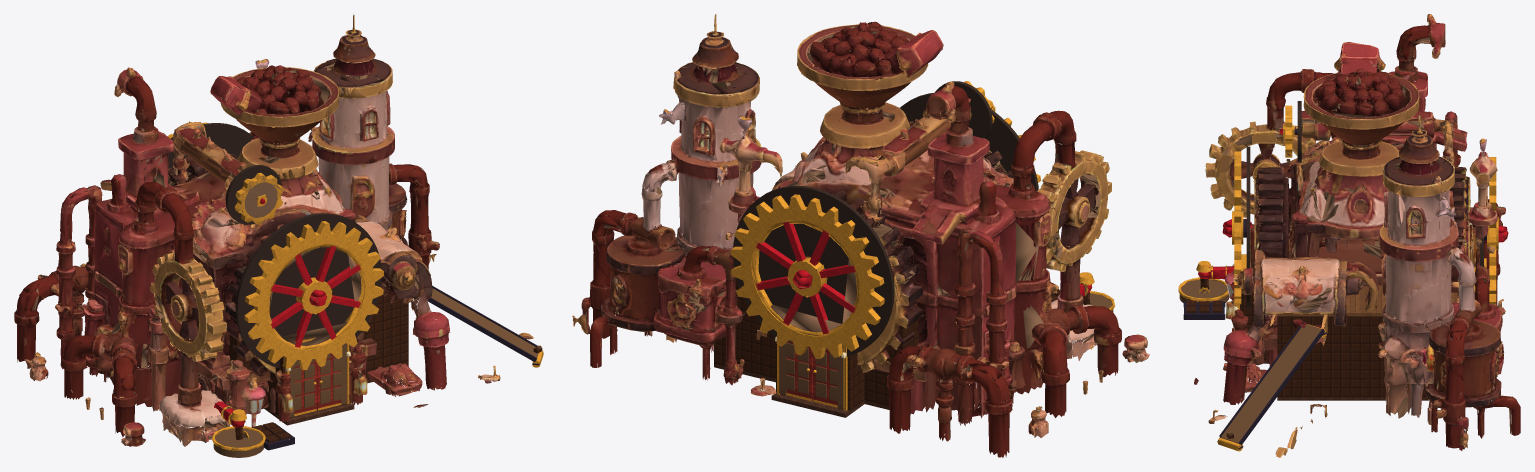
The model's file is Landmark_Cogworks_Fractured.fbx.
The picture shows the model from 3 angles, left to right: view 1: azimuth 30°, elevation 25°; view 2: azimuth 150°, elevation 25°; view 3: azimuth 270°, elevation 25°; orthographic projection. The views are drawn at different scales.
Parts seen in each view (by area): view 1: Landmark_Cogworks_Frag_17, Landmark_Cogworks_Frag_27, Landmark_Cogworks_Frag_12, Landmark_Cogworks_Frag_33, Landmark_Cogworks_Frag_20, Landmark_Cogworks_Frag_11, Landmark_Cogworks_Frag_06, Landmark_Cogworks_Frag_26, Landmark_Cogworks_Frag_14, Landmark_Cogworks_Frag_10, Landmark_Cogworks_Frag_18, Landmark_Cogworks_Frag_09 (+30 smaller); view 2: Landmark_Cogworks_Frag_30, Landmark_Cogworks_Frag_19, Landmark_Cogworks_Frag_03, Landmark_Cogworks_Frag_06, Landmark_Cogworks_Frag_04, Landmark_Cogworks_Frag_24, Landmark_Cogworks_Frag_09, Landmark_Cogworks_Frag_14, Landmark_Cogworks_Frag_10, Landmark_Cogworks_Frag_35, Landmark_Cogworks_Frag_23, Landmark_Cogworks_Frag_26 (+32 smaller); view 3: Landmark_Cogworks_Frag_05, Landmark_Cogworks_Frag_06, Landmark_Cogworks_Frag_28, Landmark_Cogworks_Frag_24, Landmark_Cogworks_Frag_22, Landmark_Cogworks_Frag_45, Landmark_Cogworks_Frag_18, Landmark_Cogworks_Frag_07, Landmark_Cogworks_Frag_25, Landmark_Cogworks_Frag_27, Landmark_Cogworks_Frag_02, Landmark_Cogworks_Frag_16 (+27 smaller).
Part boxes in pixels (left/top/right/bottom): Landmark_Cogworks_Frag_17: left=270, top=215, right=374, bottom=325; Landmark_Cogworks_Frag_27: left=224, top=116, right=338, bottom=248; Landmark_Cogworks_Frag_12: left=246, top=304, right=370, bottom=391; Landmark_Cogworks_Frag_33: left=202, top=234, right=277, bottom=350; Landmark_Cogworks_Frag_20: left=159, top=346, right=260, bottom=446; Landmark_Cogworks_Frag_11: left=299, top=100, right=393, bottom=194; Landmark_Cogworks_Frag_06: left=231, top=65, right=338, bottom=156; Landmark_Cogworks_Frag_26: left=63, top=315, right=151, bottom=416; Landmark_Cogworks_Frag_14: left=105, top=217, right=181, bottom=315; Landmark_Cogworks_Frag_10: left=34, top=272, right=119, bottom=396; Landmark_Cogworks_Frag_18: left=362, top=238, right=432, bottom=322; Landmark_Cogworks_Frag_09: left=102, top=126, right=172, bottom=220; Landmark_Cogworks_Frag_30: left=758, top=231, right=912, bottom=358; Landmark_Cogworks_Frag_19: left=622, top=201, right=758, bottom=320; Landmark_Cogworks_Frag_03: left=825, top=187, right=957, bottom=304; Landmark_Cogworks_Frag_06: left=797, top=21, right=910, bottom=140; Landmark_Cogworks_Frag_04: left=744, top=161, right=857, bottom=296; Landmark_Cogworks_Frag_24: left=572, top=210, right=652, bottom=367; Landmark_Cogworks_Frag_09: left=936, top=127, right=1033, bottom=232; Landmark_Cogworks_Frag_14: left=997, top=180, right=1054, bottom=310; Landmark_Cogworks_Frag_10: left=954, top=303, right=1068, bottom=428; Landmark_Cogworks_Frag_35: left=674, top=265, right=775, bottom=379; Landmark_Cogworks_Frag_23: left=886, top=343, right=983, bottom=441; Landmark_Cogworks_Frag_26: left=1023, top=283, right=1118, bottom=415; Landmark_Cogworks_Frag_05: left=1284, top=257, right=1385, bottom=366; Landmark_Cogworks_Frag_06: left=1303, top=68, right=1419, bottom=160; Landmark_Cogworks_Frag_28: left=1292, top=148, right=1406, bottom=245; Landmark_Cogworks_Frag_24: left=1427, top=328, right=1520, bottom=450; Landmark_Cogworks_Frag_22: left=1276, top=259, right=1472, bottom=457; Landmark_Cogworks_Frag_45: left=1387, top=224, right=1476, bottom=330; Landmark_Cogworks_Frag_18: left=1234, top=218, right=1293, bottom=326; Landmark_Cogworks_Frag_07: left=1223, top=325, right=1327, bottom=423; Landmark_Cogworks_Frag_25: left=1391, top=161, right=1455, bottom=236; Landmark_Cogworks_Frag_27: left=1234, top=86, right=1343, bottom=198; Landmark_Cogworks_Frag_02: left=1205, top=121, right=1277, bottom=208; Landmark_Cogworks_Frag_16: left=1383, top=324, right=1503, bottom=431.
Bounding box in the file's own units: 3634 × 2519 × 2622.
